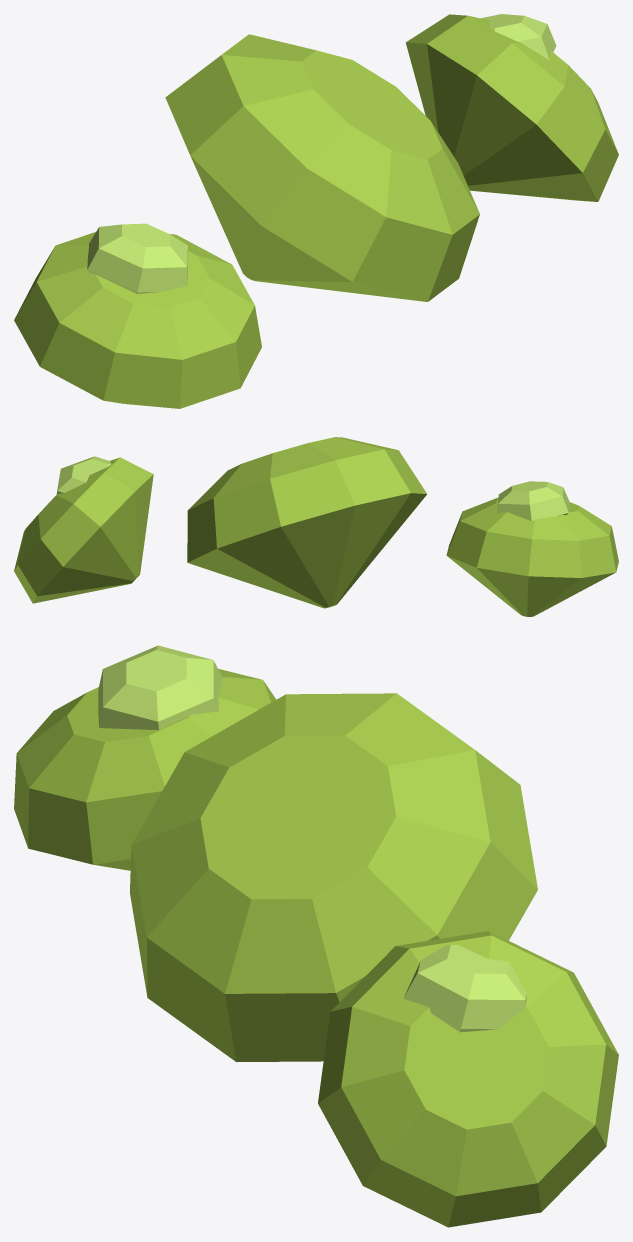
3 renders of one model, top to bottom at view 1: azimuth 30°, elevation 25°; view 2: azimuth 150°, elevation 25°; view 3: azimuth 270°, elevation 25°, orthographic. The views are drawn at different scales.
Visible parts, largest first — view 1: TI036 / individually faceted stone 1, TI036 / individually faceted stone 0, TI036 / individually faceted stone 2, TI036 / inclusion colour facet, TI036 / inclusion colour facet.002; view 2: TI036 / individually faceted stone 1, TI036 / individually faceted stone 2, TI036 / individually faceted stone 0, TI036 / inclusion colour facet, TI036 / inclusion colour facet.002; view 3: TI036 / individually faceted stone 1, TI036 / individually faceted stone 2, TI036 / individually faceted stone 0, TI036 / inclusion colour facet, TI036 / inclusion colour facet.002.
Part boxes in pixels (box(x1,y1,x2,y2)): TI036 / individually faceted stone 1: box(165, 34, 479, 301); TI036 / individually faceted stone 0: box(14, 232, 261, 408); TI036 / individually faceted stone 2: box(405, 14, 618, 201); TI036 / inclusion colour facet: box(87, 223, 187, 293); TI036 / inclusion colour facet.002: box(481, 14, 556, 60); TI036 / individually faceted stone 1: box(187, 437, 426, 608); TI036 / individually faceted stone 2: box(14, 457, 153, 603); TI036 / individually faceted stone 0: box(446, 497, 618, 616); TI036 / inclusion colour facet: box(497, 481, 569, 521); TI036 / inclusion colour facet.002: box(56, 456, 111, 494); TI036 / individually faceted stone 1: box(130, 693, 537, 1062); TI036 / individually faceted stone 2: box(318, 931, 618, 1227); TI036 / individually faceted stone 0: box(14, 668, 276, 870); TI036 / inclusion colour facet: box(98, 645, 223, 730); TI036 / inclusion colour facet.002: box(403, 945, 526, 1032).
Bounding box in the file's own units: 2.54 × 0.8889 × 1.57.
